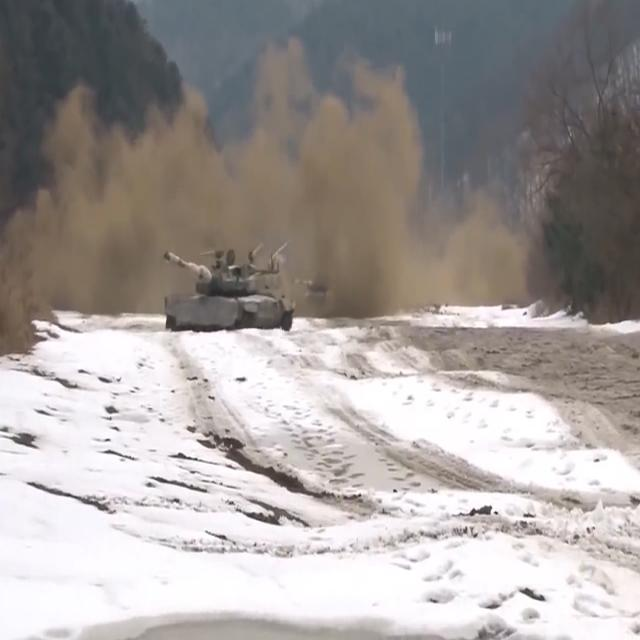korea tank: (164, 237, 294, 337)
